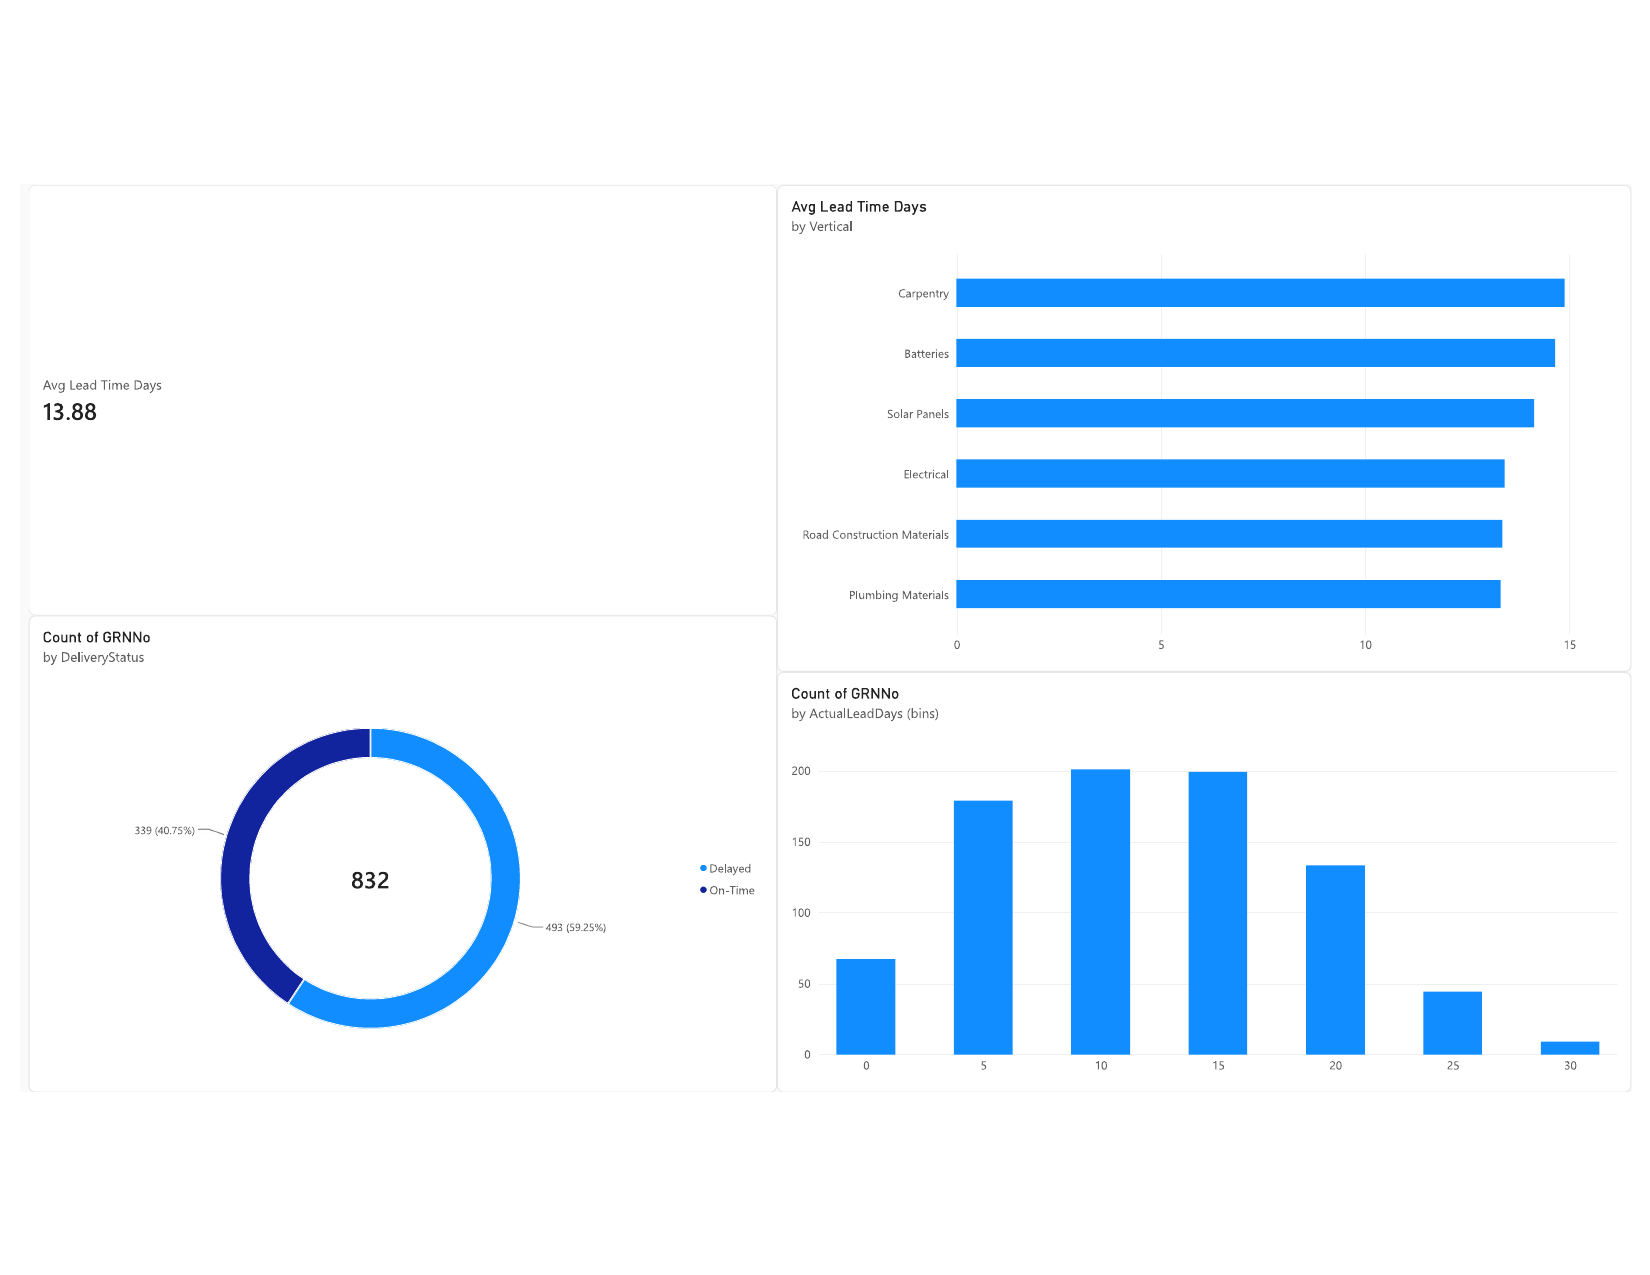

The page's visual inventory and layout, read from the dashboard file:
{"tool":"powerbi","page":{"name":"Delivery Lead Time","canvas":[1920,1080],"ordinal":11},"visuals":[{"type":"cardVisual","fields":{"Data":["PO_Data.Avg Lead Time Days"]},"box":[10.3,0,891.3,512.5],"z":0},{"type":"barChart","fields":{"Category":["PO_Data.Vertical"],"Y":["PO_Data.Avg Lead Time Days"]},"box":[901.5,0,1018.9,580.4],"z":1000},{"type":"donutChart","fields":{"Category":["GRN_Data.DeliveryStatus"],"Y":["CountNonNull(GRN_Data.GRNNo)"]},"box":[10.3,512.5,891.3,568.1],"z":2000},{"type":"columnChart","fields":{"Category":["GRN_Data.ActualLeadDays (bins)"],"Y":["CountNonNull(GRN_Data.GRNNo)"]},"box":[901.5,580.4,1018.9,500.2],"z":3000}]}

Visuals, with their boxes on the page's 1920x1080 design canvas (x1, y1, x2, y2). These are canvas units, not pixel positions in the 1650x1275 screenshot, which may show the page scaled, cropped or inside an application window:
cardVisual - PO_Data.Avg Lead Time Days: bbox=[10, 0, 902, 512]
barChart - PO_Data.Vertical x PO_Data.Avg Lead Time Days: bbox=[902, 0, 1920, 580]
donutChart - GRN_Data.DeliveryStatus x CountNonNull(GRN_Data.GRNNo): bbox=[10, 512, 902, 1081]
columnChart - GRN_Data.ActualLeadDays (bins) x CountNonNull(GRN_Data.GRNNo): bbox=[902, 580, 1920, 1081]
